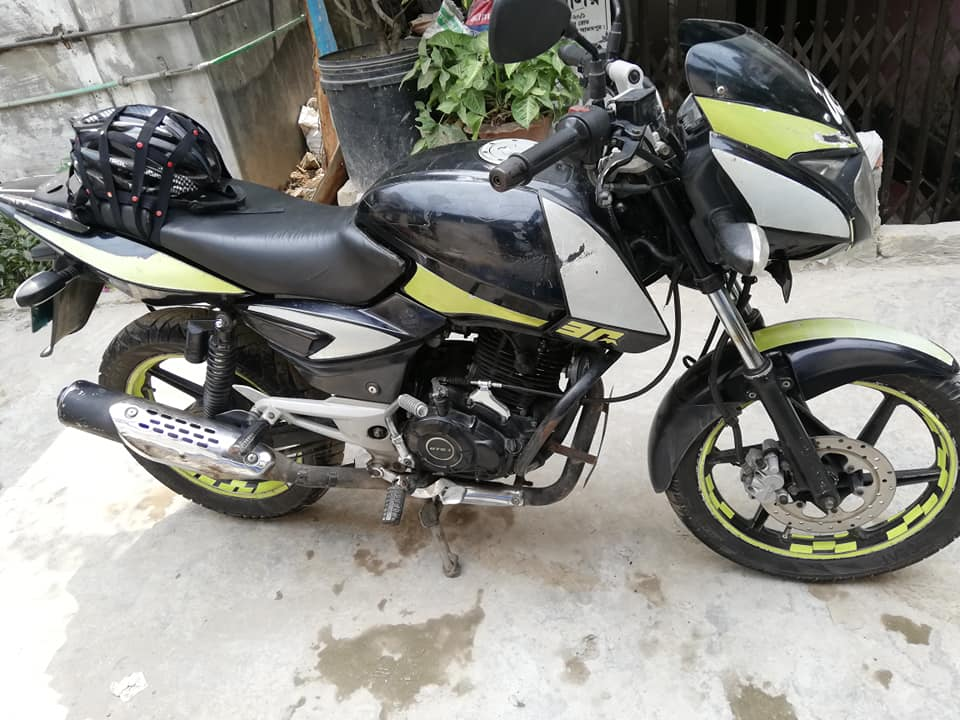bike: (1, 17, 960, 580)
